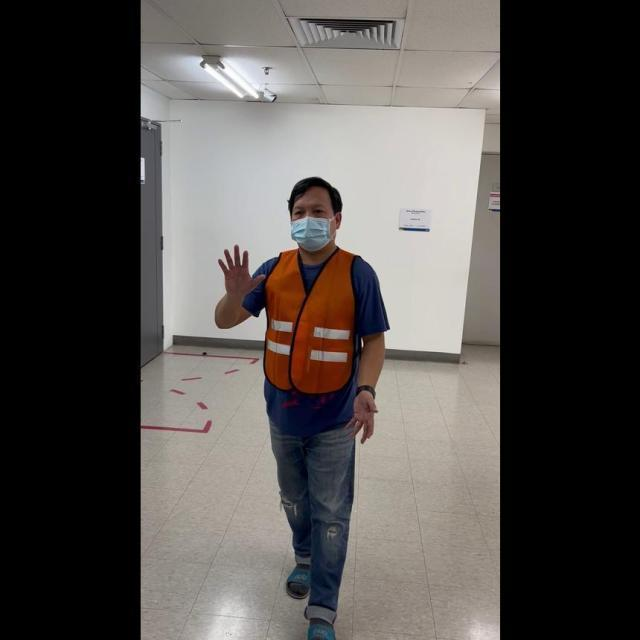bare_hand: (214, 241, 263, 298), (345, 385, 377, 444)
